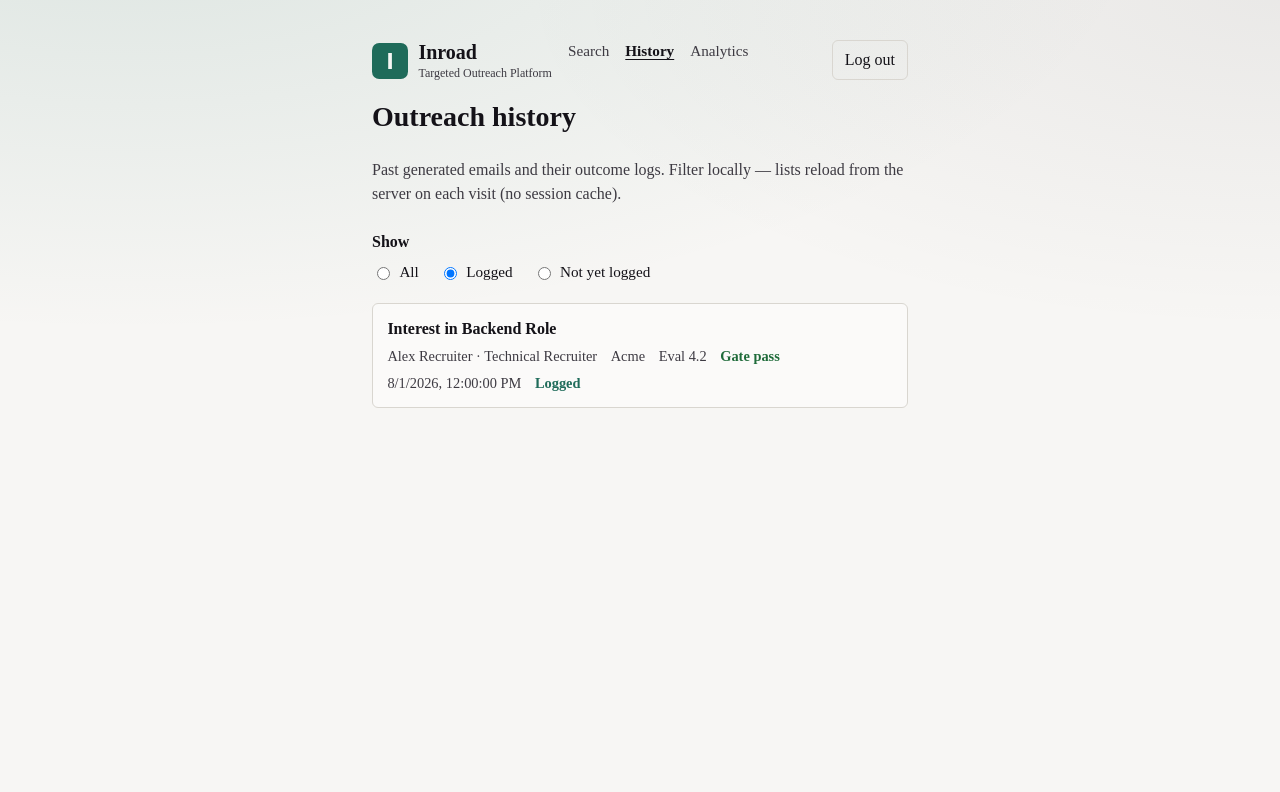
Test: HistoryPage › row expansion fetches full email and shows outcome timeline
This screenshot has width=1280, height=792.
Click the text "Interest in Backend Role".
click(472, 328)  # box [387,320,556,337]
(page scrolled)
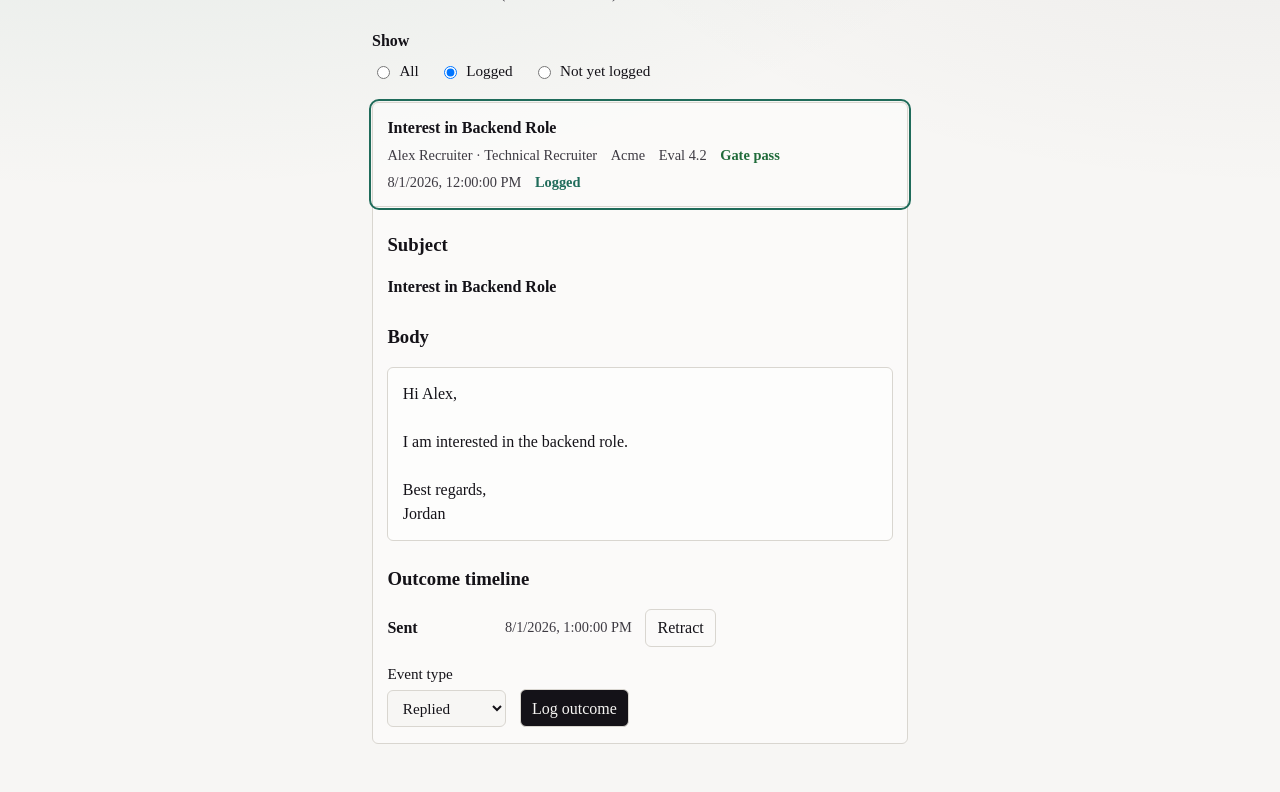
Expected: the text "I am interested in the backend role" is shown, [403,385,628,522]
Expected: the text "Outcome timeline" is shown, [387,568,529,589]
Expected: the text "Sent" is shown, [387,619,418,636]
